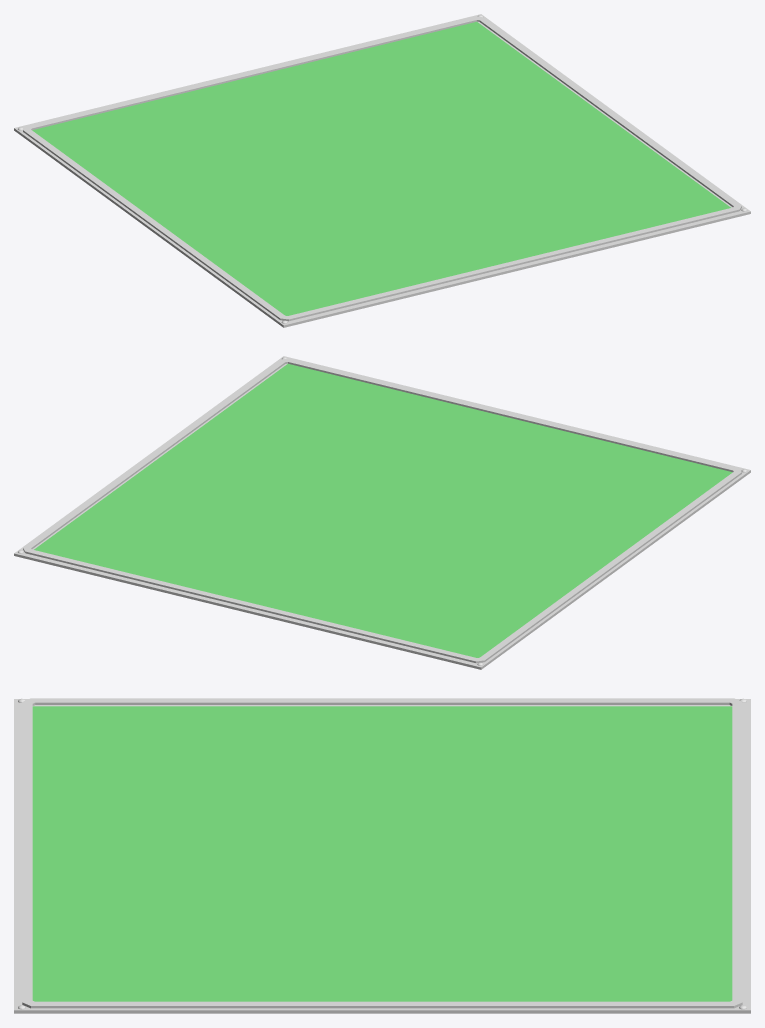
Rendered from Sol_Verre.fbx.
3 views of the same model, one above another, from view 1: azimuth 30°, elevation 25°; view 2: azimuth 150°, elevation 25°; view 3: azimuth 270°, elevation 25° (orthographic). The views are drawn at different scales.
Visible parts, largest first — view 1: SolVerre; view 2: SolVerre; view 3: SolVerre.
Boxes of the visible parts, x1,y1,x2,y2 form: SolVerre: [14, 14, 750, 327]; SolVerre: [14, 356, 750, 669]; SolVerre: [14, 698, 750, 1013].
Size of the model in its own units: 200 by 1.73 by 200.
